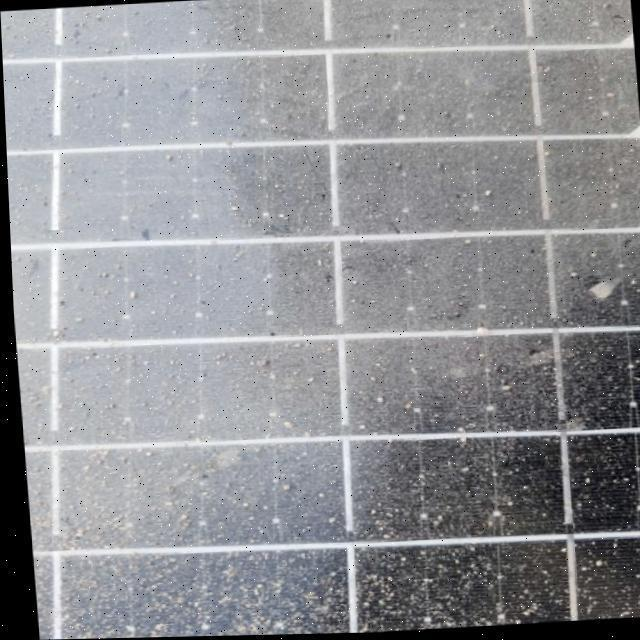Surface Contaminant: (2, 35, 640, 640)
